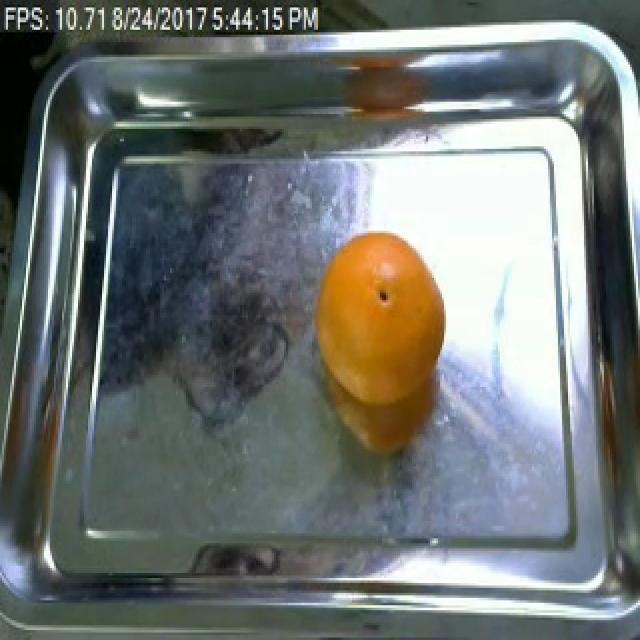Fruit: (308, 224, 452, 462)
